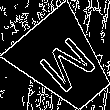M_SE: (29, 28, 99, 97)
